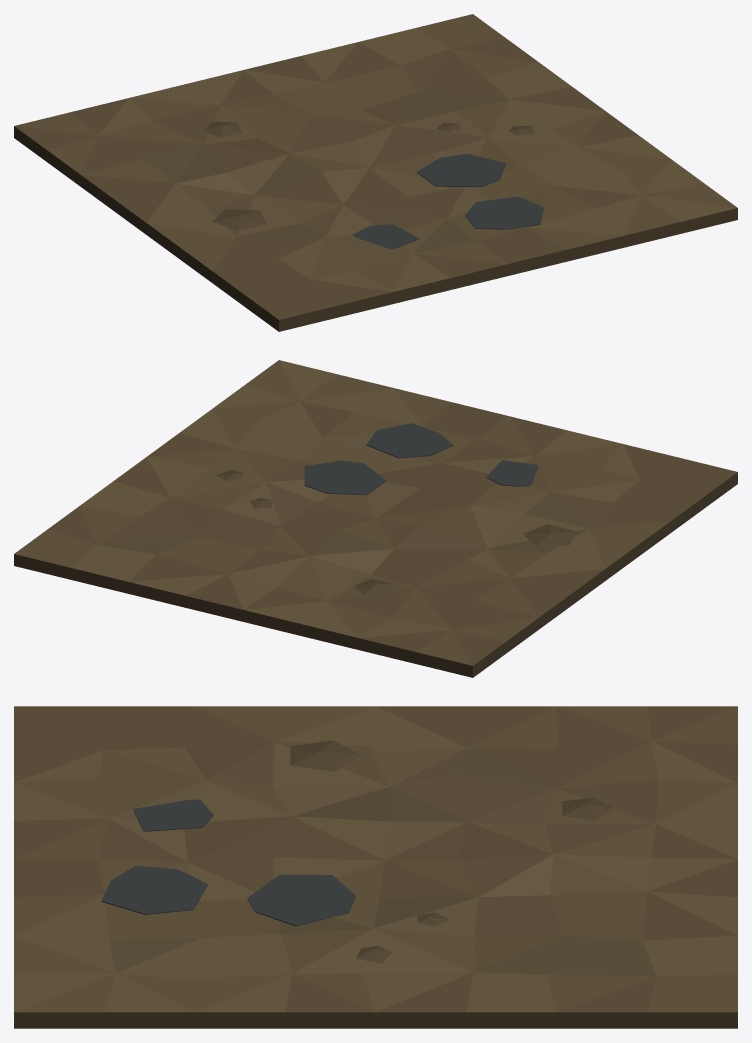
Rendered from ground_mud_c.glb.
3 views of the same model, one above another, from view 1: azimuth 30°, elevation 25°; view 2: azimuth 150°, elevation 25°; view 3: azimuth 270°, elevation 25° (orthographic). The views are drawn at different scales.
Parts seen in each view (by area): view 1: ground_mud_c; view 2: ground_mud_c; view 3: ground_mud_c.
Boxes of the visible parts, box(x1,y1,x2,y2) form: ground_mud_c: box(14, 14, 737, 331); ground_mud_c: box(14, 360, 737, 677); ground_mud_c: box(14, 706, 737, 1028).
Size of the model in its own units: 4 by 0.1345 by 4.
